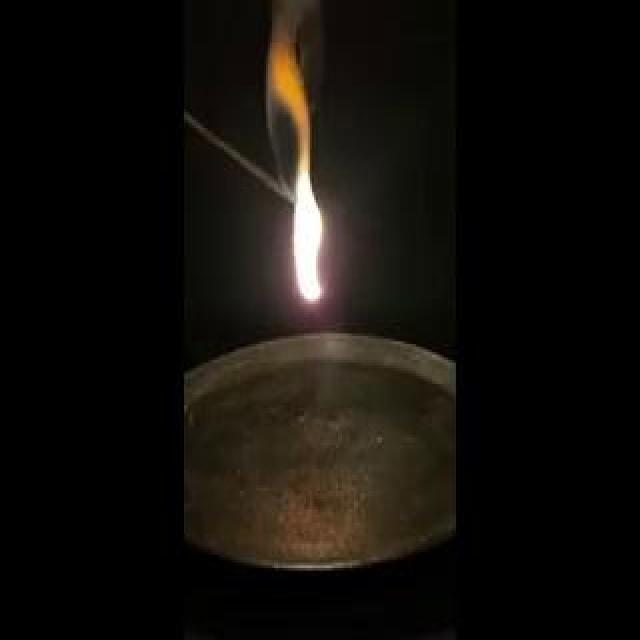fire: (276, 42, 333, 305)
